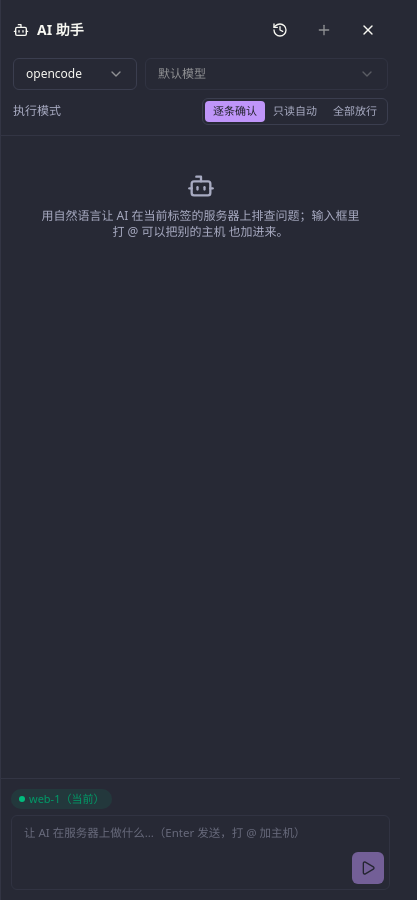
Scenario: 历史列表 › 打开一条：回看消息、用历史 id 续接；没接上时提示上下文没带给 AI
Click the button titled "历史会话".
click(280, 30)  # box [260,10,300,50]
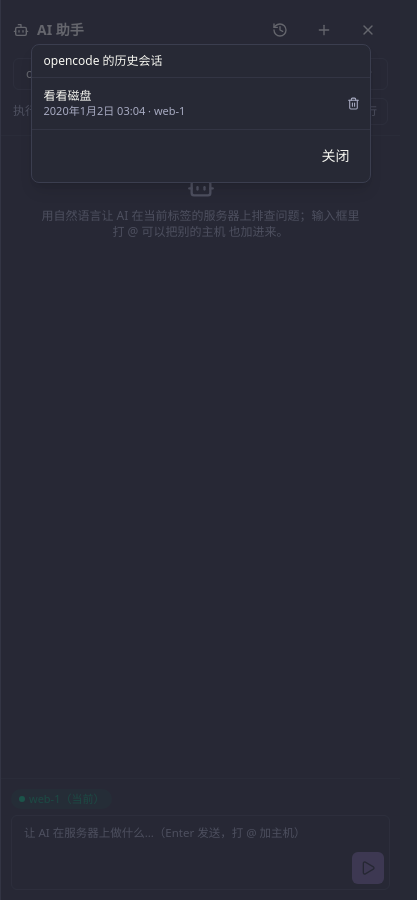
Check: the element showing "opencode 的历史会话 看看磁盘 2020年1月2日 03:04 · web-1 关闭" is shown
Click the text "看看磁盘".
click(68, 96)  # box [44,87,92,104]
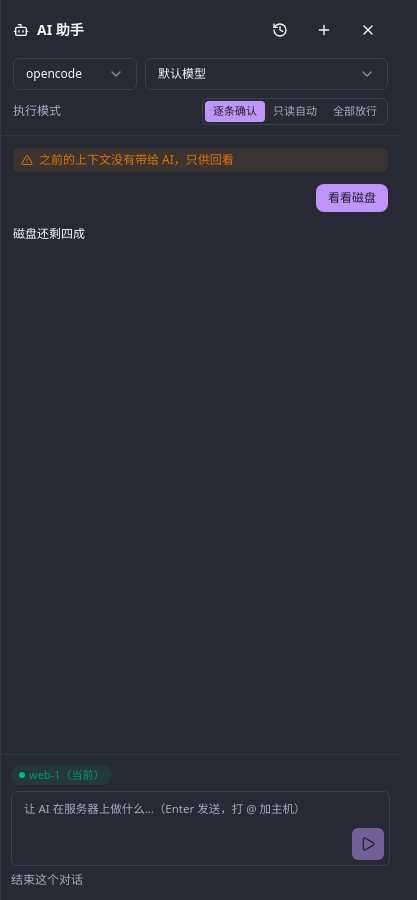
Check: the text "磁盘还剩四成" is shown, box [13,224,85,242]
Check: the text "之前的上下文没有带给 AI，只供回看" is shown, box [39,152,234,168]
